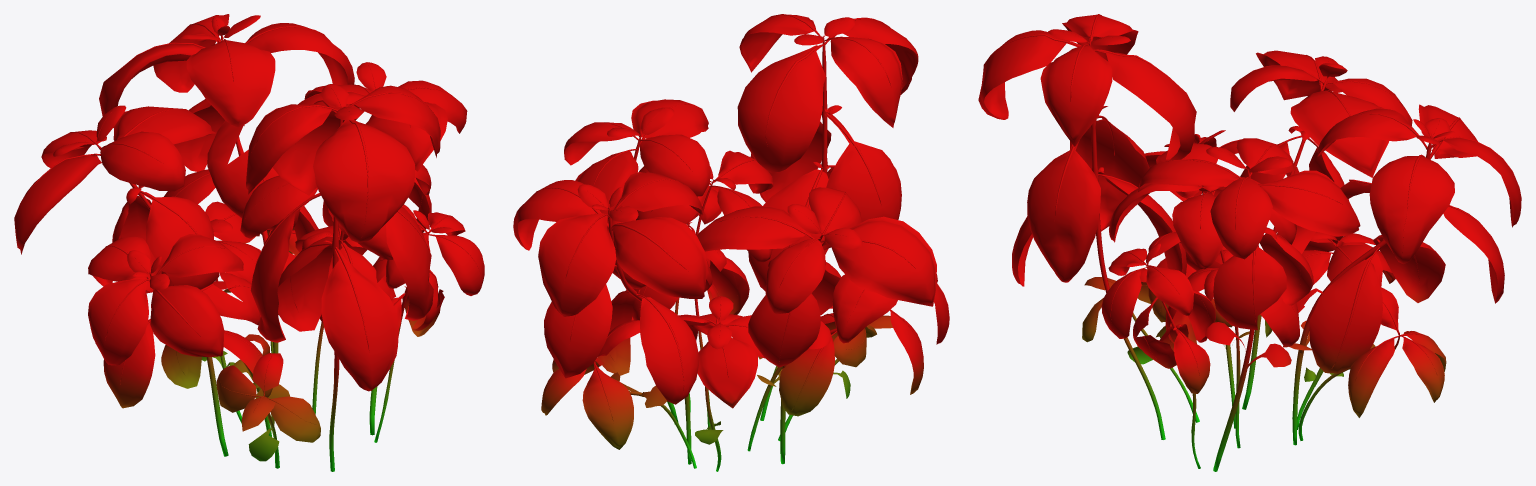
File: Basil_LOD0_Var2_vgpochzia.fbx
3 views of the same model, side by side, from view 1: azimuth 30°, elevation 25°; view 2: azimuth 150°, elevation 25°; view 3: azimuth 270°, elevation 25° (orthographic). The views are drawn at different scales.
Parts seen in each view (by area): view 1: _ddrl_Var2_LOD0; view 2: _ddrl_Var2_LOD0; view 3: _ddrl_Var2_LOD0.
Boxes of the visible parts, <box> form: _ddrl_Var2_LOD0: <box>14,14,484,471</box>; _ddrl_Var2_LOD0: <box>513,14,949,471</box>; _ddrl_Var2_LOD0: <box>978,14,1521,471</box>.
Size of the model in its own units: 31.03 by 28.53 by 35.68.
